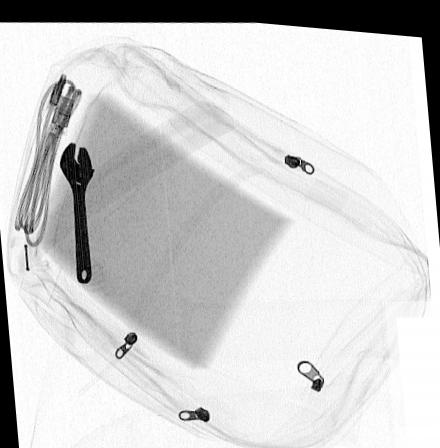Wrench: (56, 139, 96, 283)
